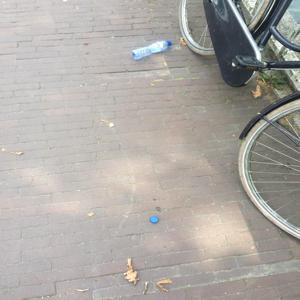plastic: (146, 212, 162, 229)
plastic bottle: (129, 33, 177, 70)
